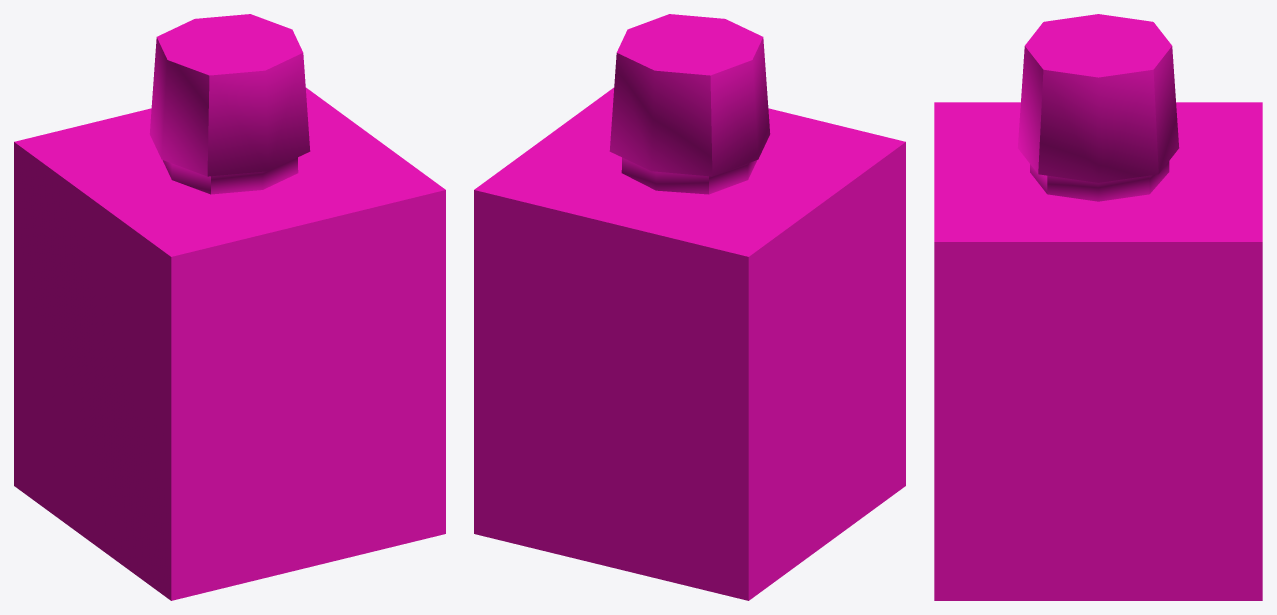
The model's file is study_drink_box_1_meshCollider.fbx.
3 renders of one model, left to right at view 1: azimuth 30°, elevation 25°; view 2: azimuth 150°, elevation 25°; view 3: azimuth 270°, elevation 25°, orthographic. The views are drawn at different scales.
Parts seen in each view (by area): view 1: study_drink_box_1_meshCollider; view 2: study_drink_box_1_meshCollider; view 3: study_drink_box_1_meshCollider.
Boxes of the visible parts, x1,y1,x2,y2 form: study_drink_box_1_meshCollider: [14, 14, 445, 600]; study_drink_box_1_meshCollider: [474, 14, 905, 600]; study_drink_box_1_meshCollider: [934, 14, 1262, 600].
Bounding box in the file's own units: 7.28 × 11.78 × 7.22.
